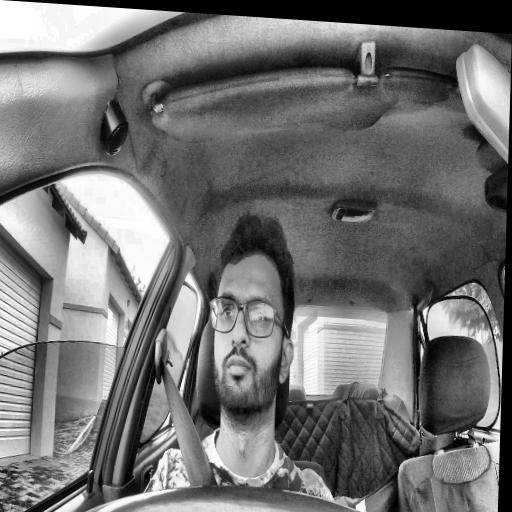awake: (207, 209, 299, 424)
